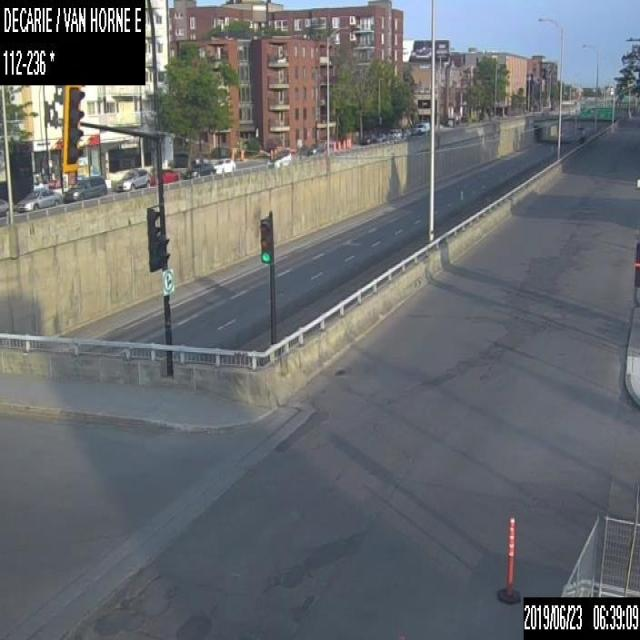construction: (496, 513, 520, 603), (269, 148, 273, 159), (345, 137, 348, 148), (342, 138, 345, 148), (332, 140, 335, 150), (336, 140, 339, 150), (348, 137, 350, 148)
vehicle: (13, 185, 62, 211), (65, 175, 107, 200), (113, 165, 151, 191), (209, 156, 235, 176), (186, 160, 214, 176), (161, 166, 178, 182), (307, 143, 326, 155), (414, 121, 429, 134), (361, 133, 375, 144), (0, 196, 7, 214), (375, 132, 386, 141)
